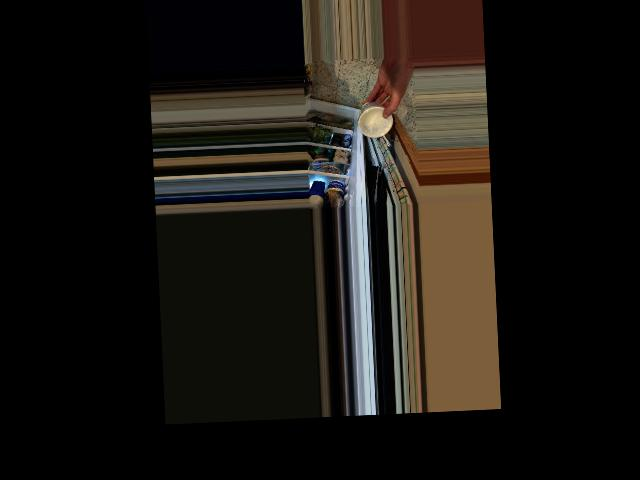cotage: (358, 102, 390, 137)
